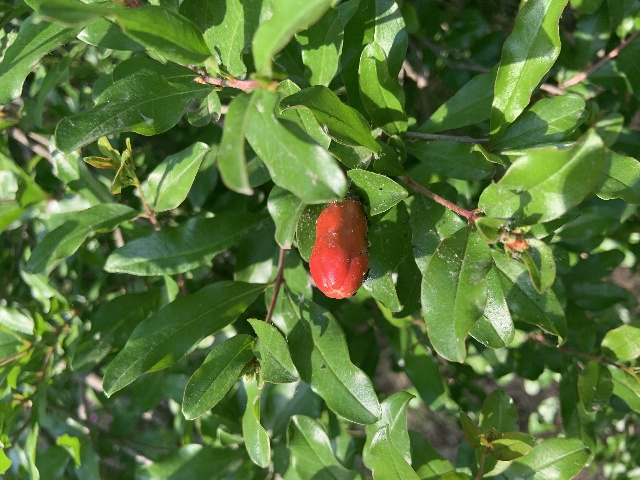bud: (309, 198, 368, 299)
